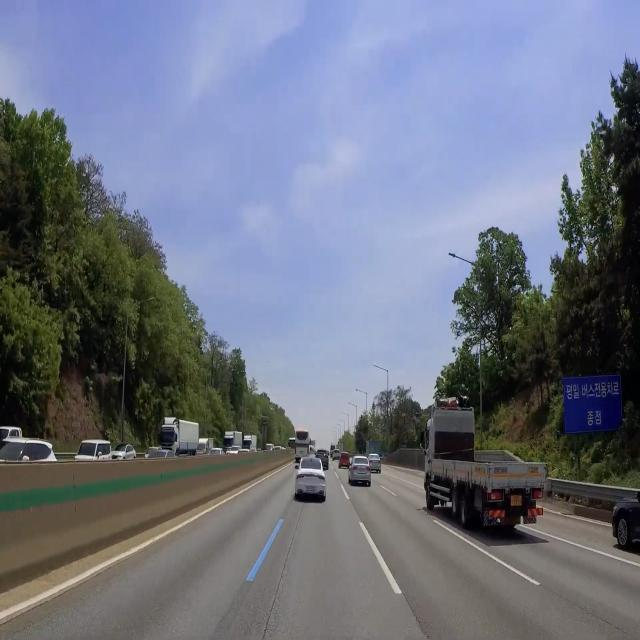car: (508, 492, 524, 511), (304, 483, 318, 494), (358, 467, 368, 474)
